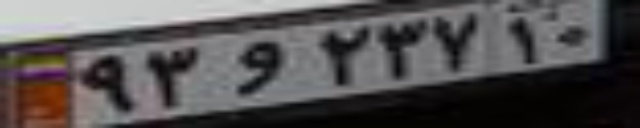0: (557, 25, 588, 48)
1: (508, 14, 541, 64)
2: (322, 25, 369, 88)
3: (144, 47, 199, 109), (380, 19, 425, 83)
7: (432, 11, 480, 72)
9: (78, 56, 130, 113)
vav: (234, 41, 293, 94)
